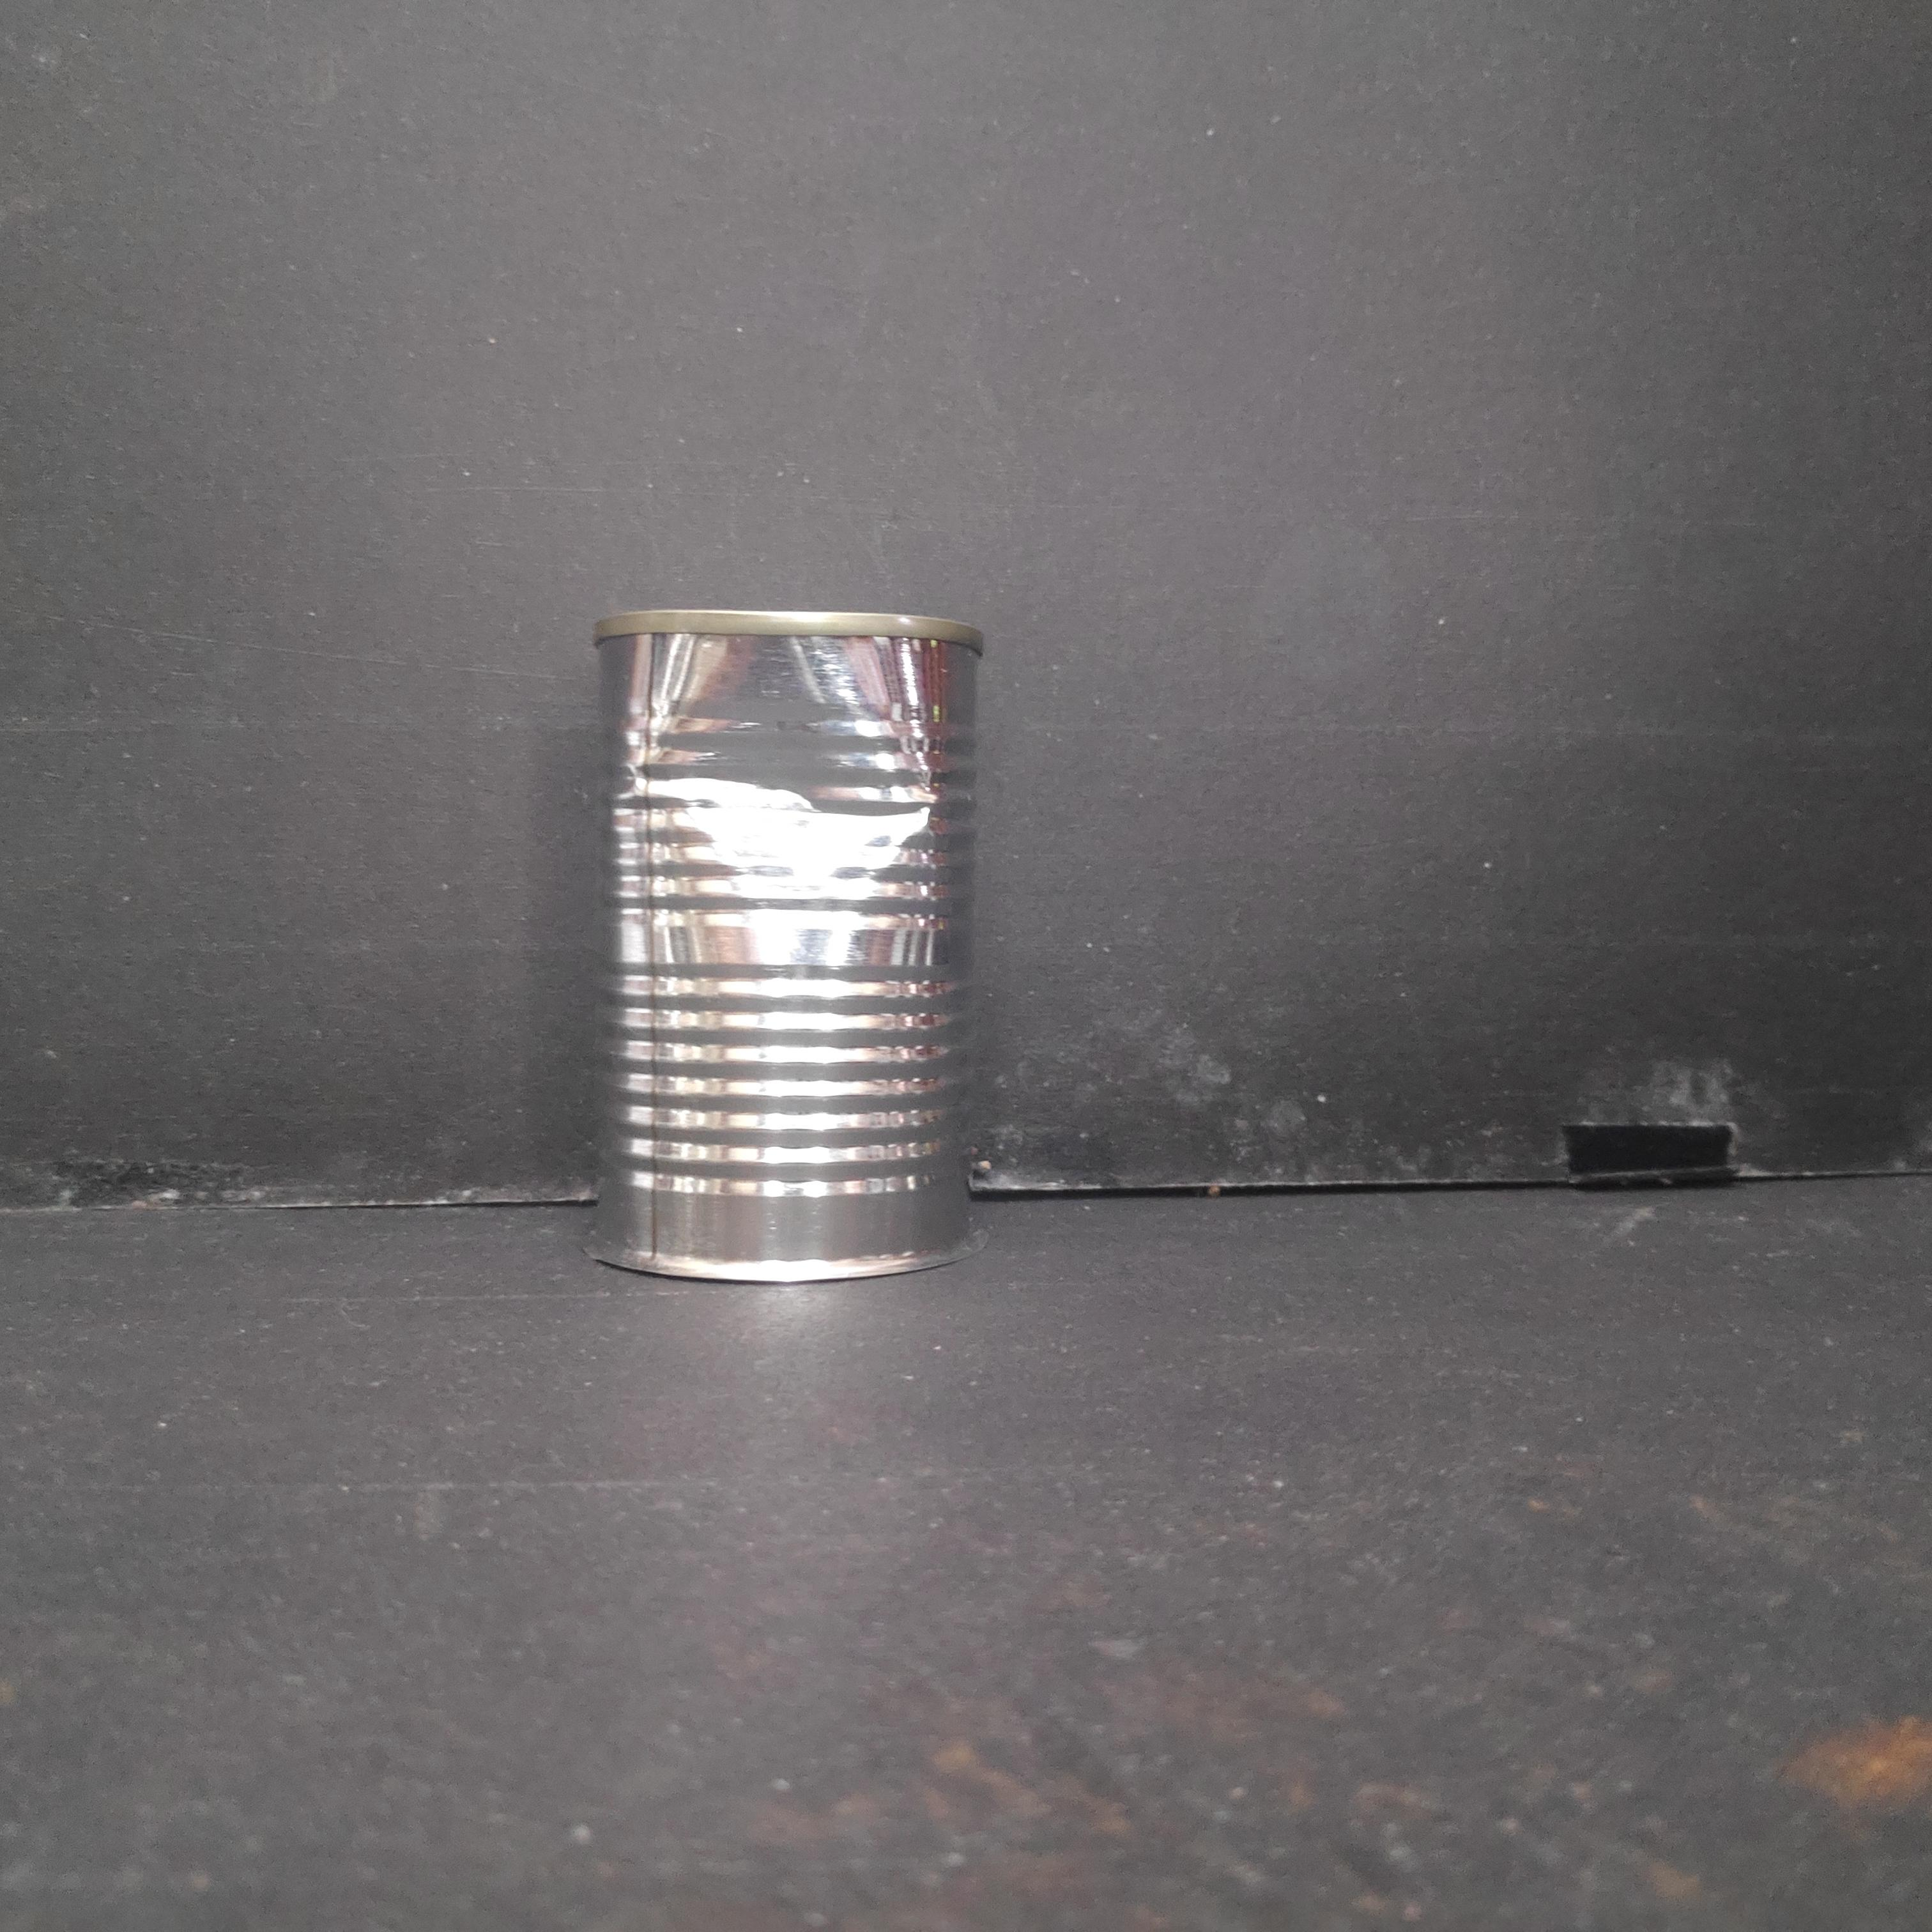Minor Defect: (579, 591, 987, 1300)
